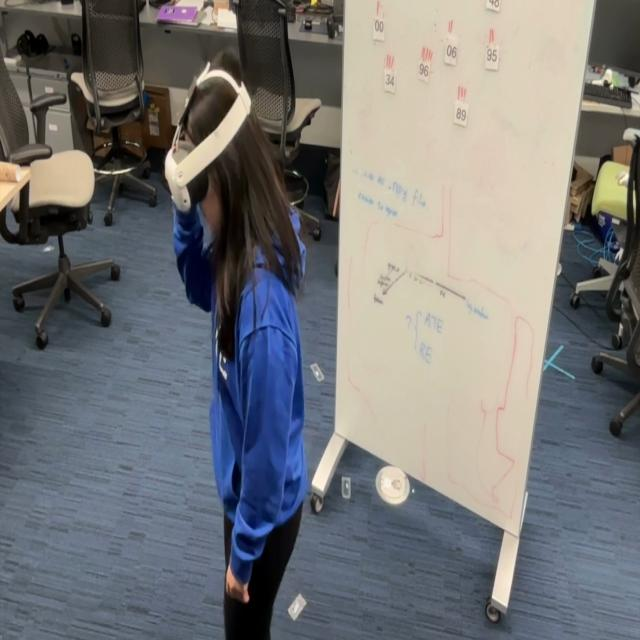Headset: (163, 60, 252, 214)
UnityLogo: (172, 74, 199, 122)
